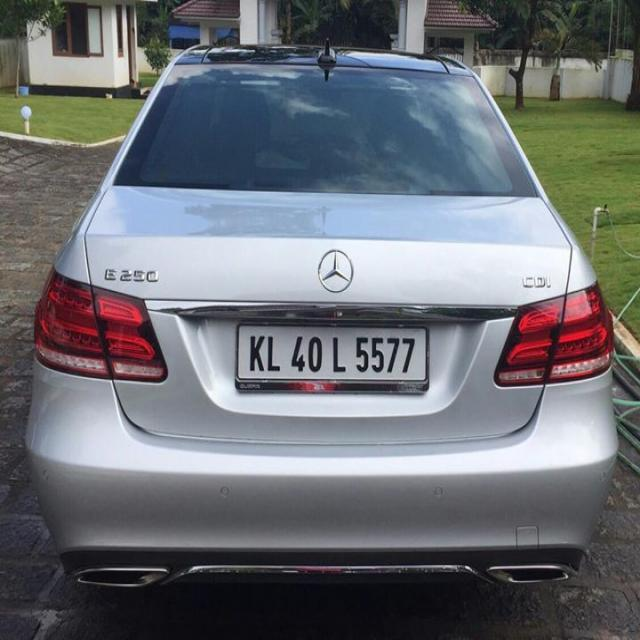Number-Plate: (239, 322, 427, 382)
